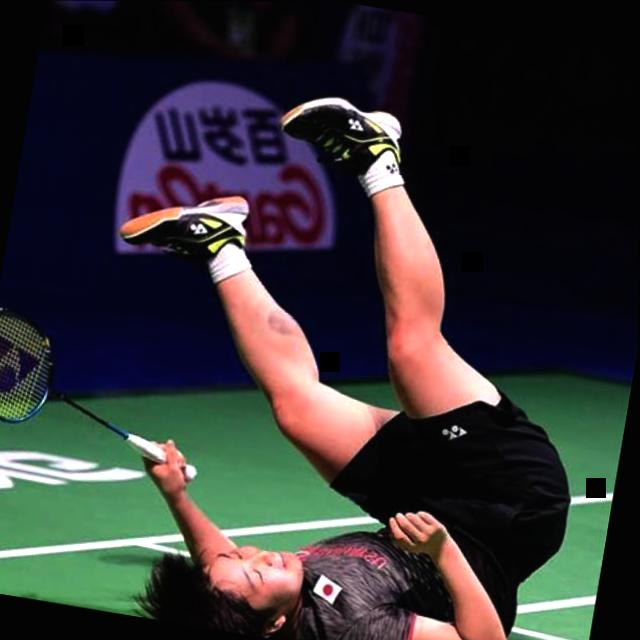Fall-Detected: (62, 48, 640, 640)
